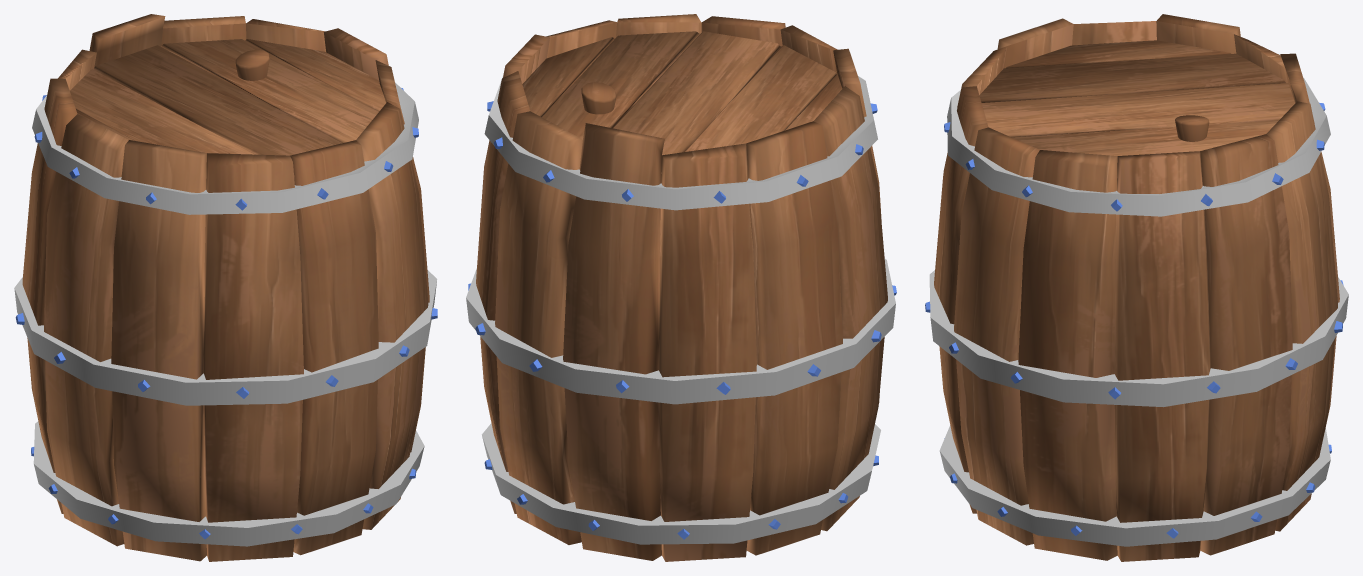
File: Barrel_1.fbx
3 views of the same model, side by side, from view 1: azimuth 30°, elevation 25°; view 2: azimuth 150°, elevation 25°; view 3: azimuth 270°, elevation 25° (orthographic).
Visible parts, largest first — view 1: Barrel_1; view 2: Barrel_1; view 3: Barrel_1.
Boxes of the visible parts, bbox=[...] form: Barrel_1: bbox=[14, 14, 437, 561]; Barrel_1: bbox=[466, 14, 896, 561]; Barrel_1: bbox=[925, 14, 1348, 561].
Bounding box in the file's own units: 0.8496 × 0.9089 × 0.8532.
